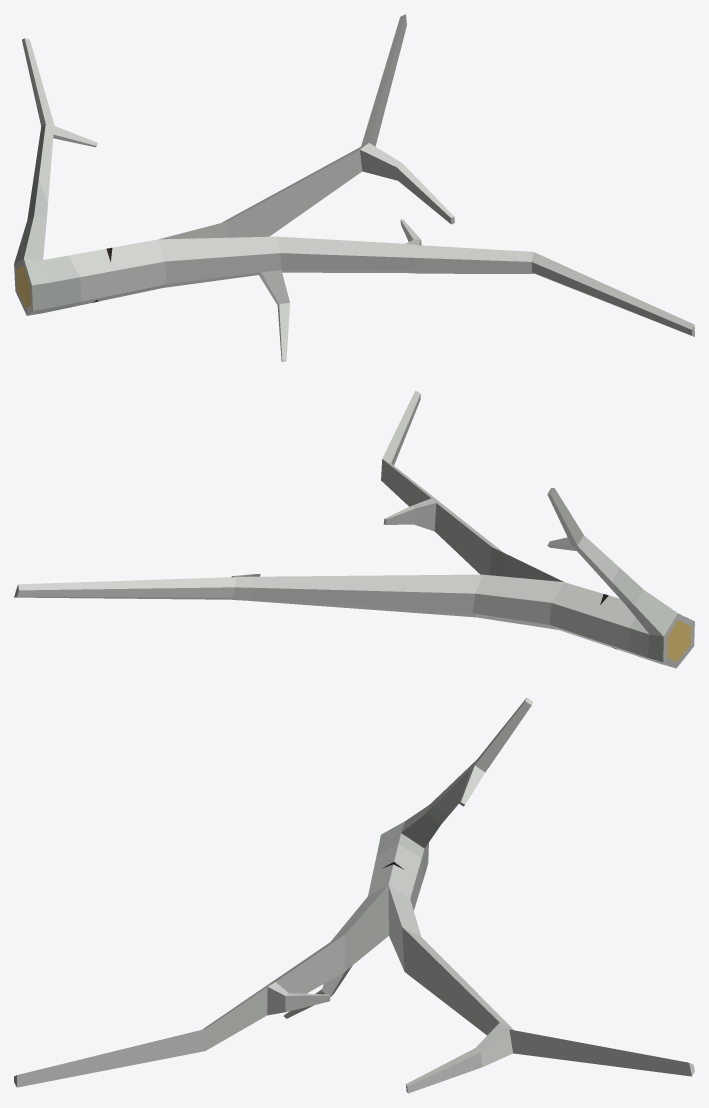
The model's file is BirchClutter_002 1.fbx.
The picture shows the model from 3 angles, top to bottom: view 1: azimuth 30°, elevation 25°; view 2: azimuth 150°, elevation 25°; view 3: azimuth 270°, elevation 25°; orthographic projection. The views are drawn at different scales.
Visible parts, largest first — view 1: BirchClutter.002; view 2: BirchClutter.002; view 3: BirchClutter.002.
Boxes of the visible parts, <box> form: BirchClutter.002: <box>14,14,694,361</box>; BirchClutter.002: <box>14,390,694,668</box>; BirchClutter.002: <box>14,697,694,1093</box>.
Size of the model in its own units: 5.31 by 2.52 by 6.05.
